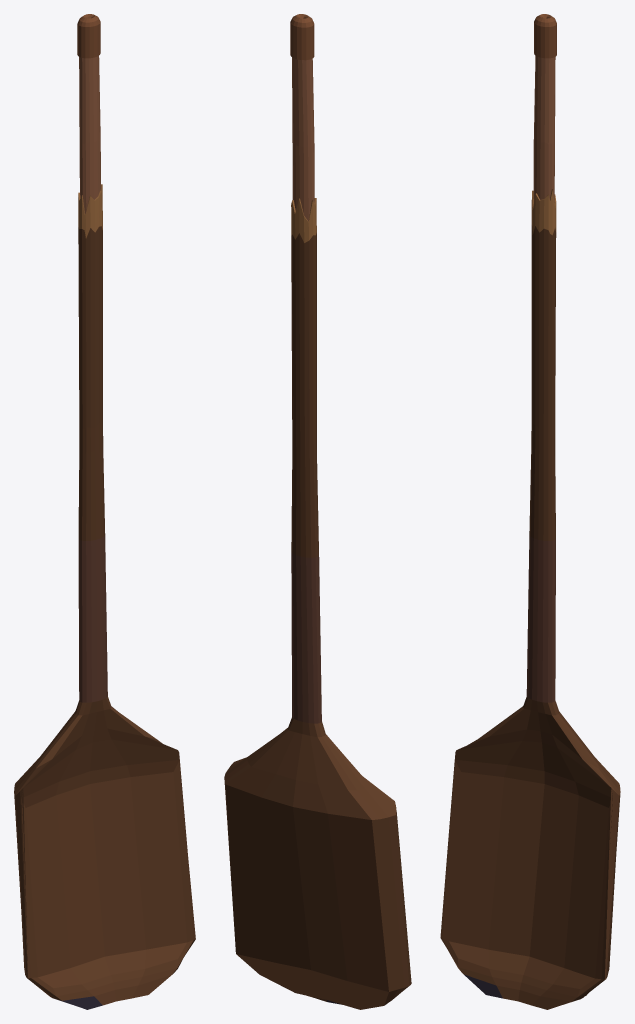
The model's file is wooden_shovel.glb.
3 renders of one model, left to right at view 1: azimuth 30°, elevation 25°; view 2: azimuth 150°, elevation 25°; view 3: azimuth 330°, elevation 25°, orthographic. The views are drawn at different scales.
Parts seen in each view (by area): view 1: WoodenShovel; view 2: WoodenShovel; view 3: WoodenShovel.
Part boxes in pixels (x1,y1,x2,y2): WoodenShovel: (14,14,195,1009); WoodenShovel: (224,14,411,1009); WoodenShovel: (440,14,620,1009).
Size of the model in its own units: 0.144 by 0.8 by 0.057.
